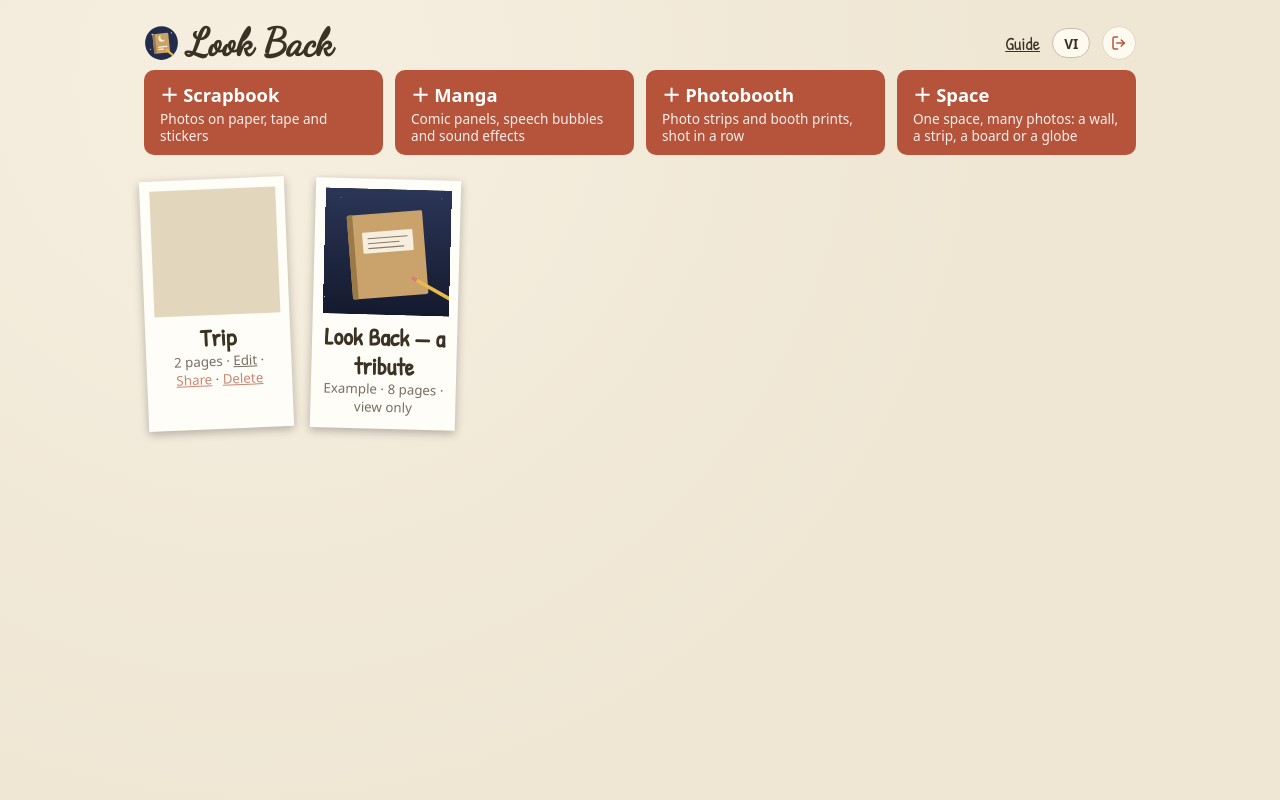
Scenario: Share dialog: an edit link for the hours the owner types (8 by default), to copy, renew or revoke
The width and height of the screenshot is (1280, 800).
Click the button with aria-label "Share Trip". click: (194, 379)
box: [176,370,212,389]
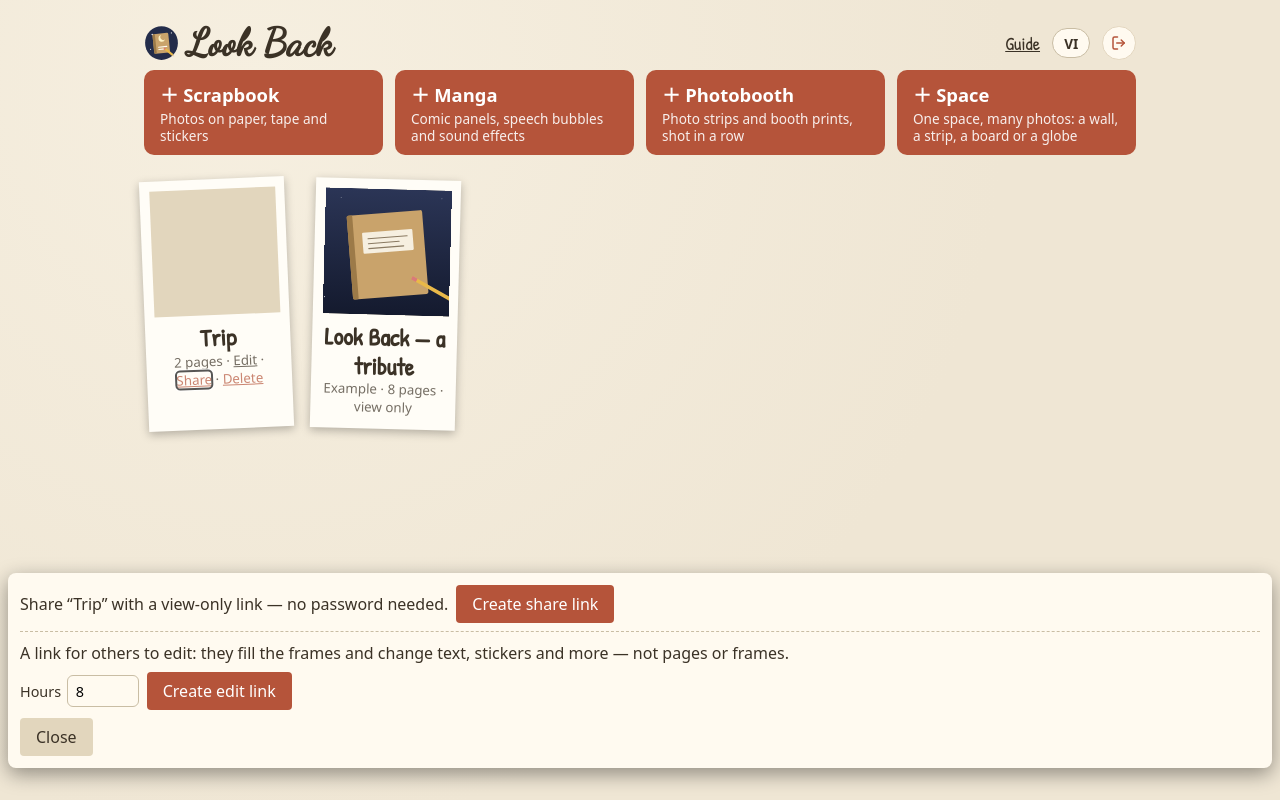
Result: the number field labelled "Hours" holds "8"
Replace the text in the number field labelled "Hours" with "24". click: (103, 691)
box: [67,675,139,707]
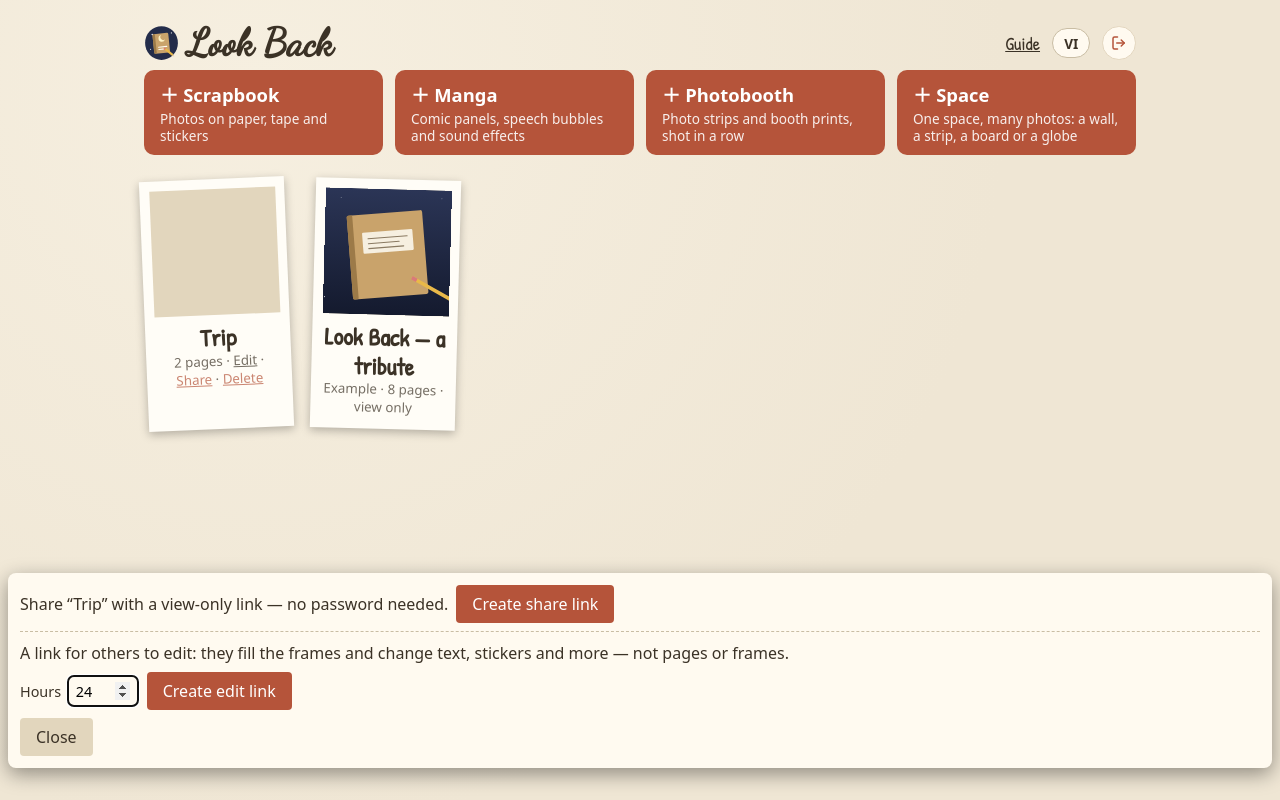
Click the button "Create edit link". click: (219, 691)
box: [147,672,292,710]
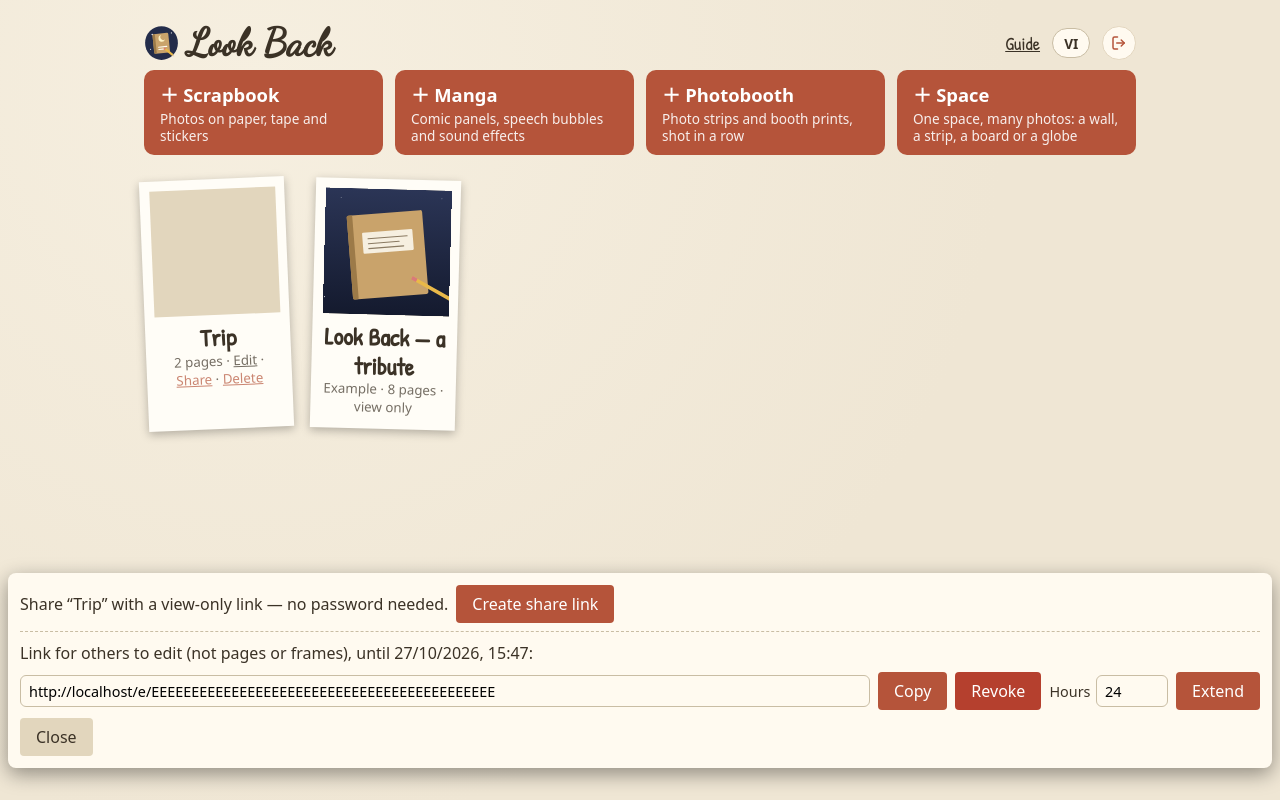
Result: the text "until" is shown at [20,642,533,664]
Click the button with aria-label "Revoke edit link". click: (998, 691)
box: [955,672,1041,710]
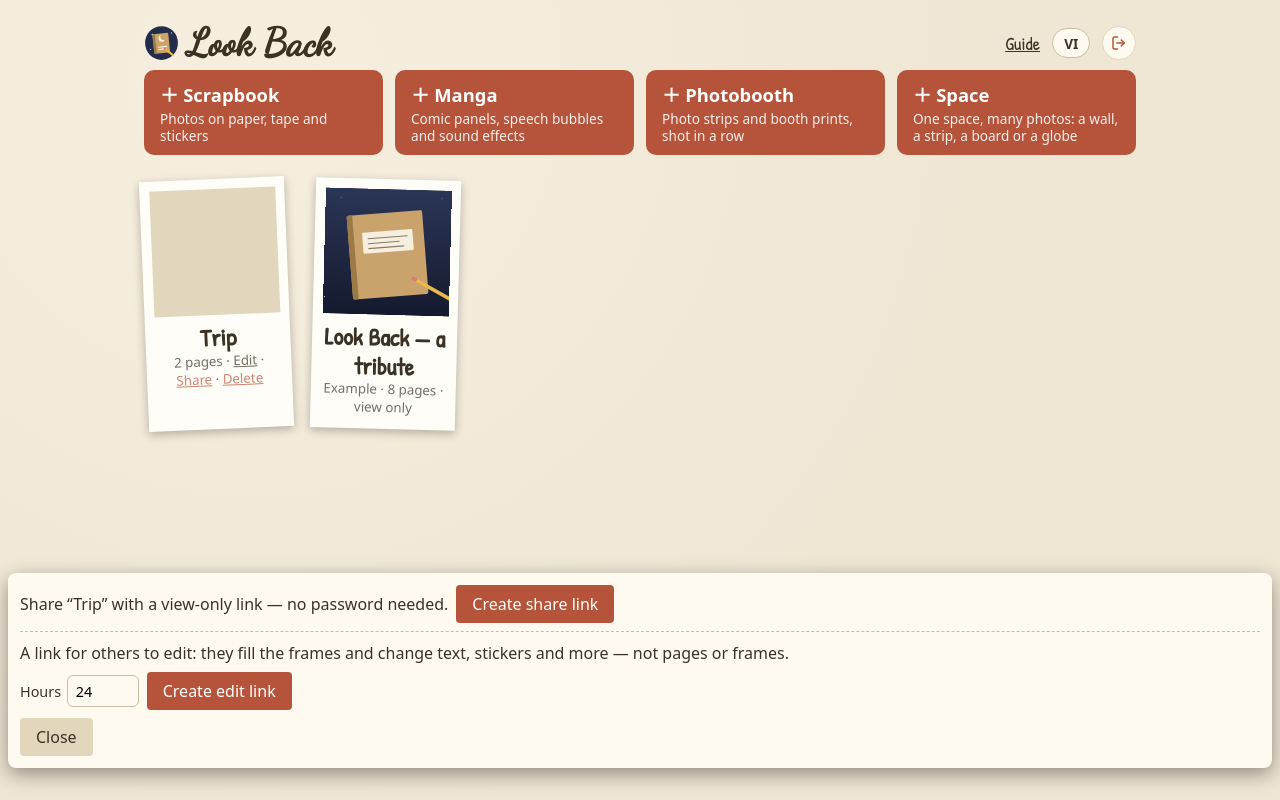
Result: the button "Create edit link" is shown at [147,672,292,710]
